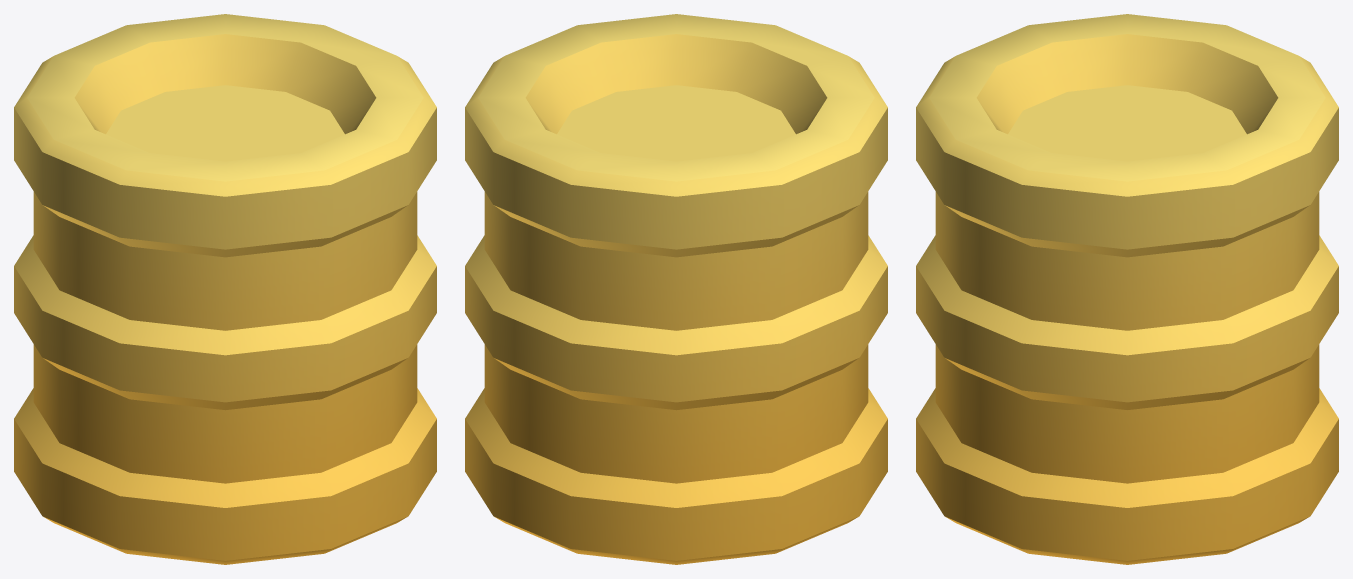
Rendered from kaykit-proto-Barrel_B.glb.
3 views of the same model, side by side, from view 1: azimuth 30°, elevation 25°; view 2: azimuth 150°, elevation 25°; view 3: azimuth 270°, elevation 25° (orthographic).
Visible parts, largest first — view 1: Barrel_B; view 2: Barrel_B; view 3: Barrel_B.
Boxes of the visible parts, x1,y1,x2,y2 form: Barrel_B: (14, 14, 436, 564); Barrel_B: (465, 14, 887, 564); Barrel_B: (916, 14, 1338, 564).
Bounding box in the file's own units: 1 × 1 × 1.
Materials: 1 (1 with a texture image).
